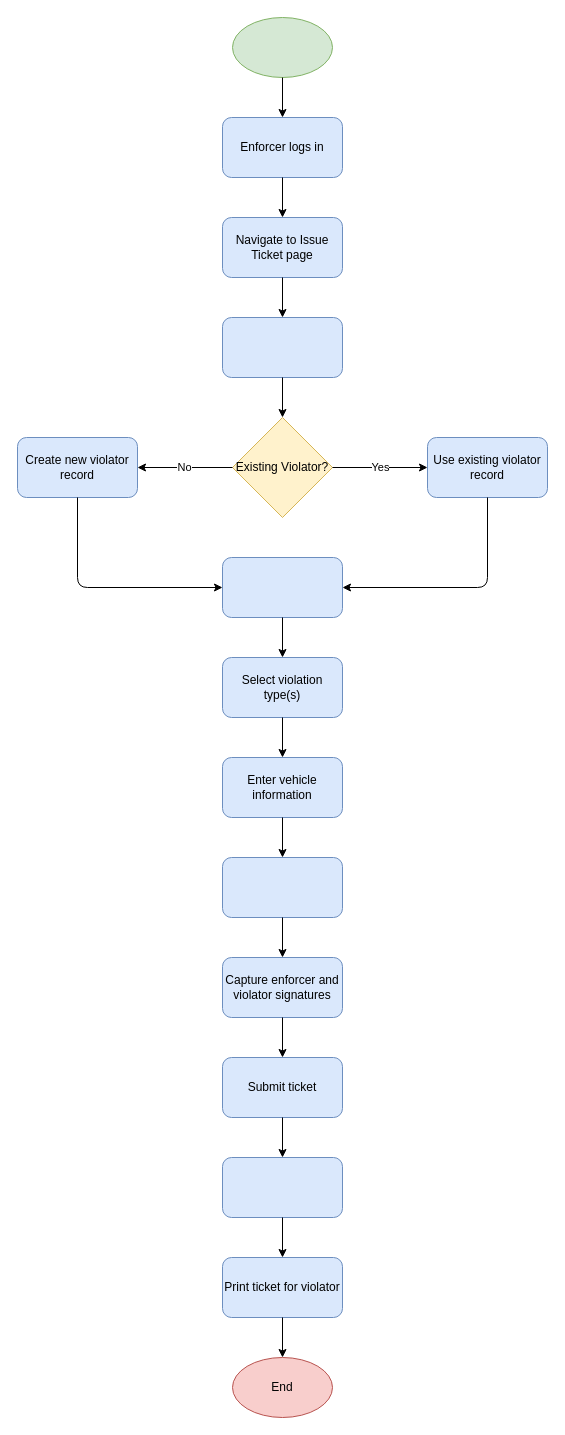
This 565x1435 diagram has some shape labels left out. The shapes that lost their labels are listed below. From the top down, each one's box as (x1, y1, x2, y2) in pixels, then its label:
(232, 16, 332, 78): Start
(222, 316, 342, 378): Enter violator information
(222, 556, 342, 618): Enter violation details
(222, 856, 342, 918): System calculates fine amount
(222, 1156, 342, 1218): System creates ticket with PENDING status
